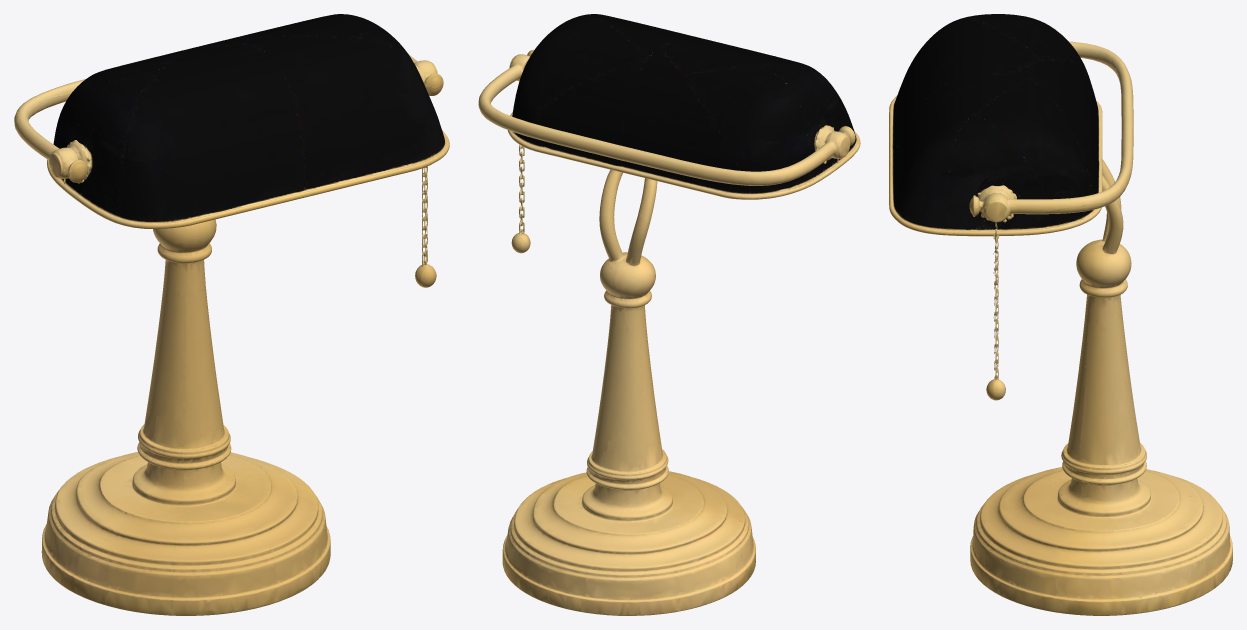
File: desk-lamp.glb
3 renders of one model, left to right at view 1: azimuth 30°, elevation 25°; view 2: azimuth 150°, elevation 25°; view 3: azimuth 270°, elevation 25°, orthographic. The views are drawn at different scales.
Parts seen in each view (by area): view 1: mesh_node; view 2: mesh_node; view 3: mesh_node.
Part boxes in pixels (bbox=[...]): mesh_node: bbox=[14, 14, 449, 615]; mesh_node: bbox=[478, 14, 860, 615]; mesh_node: bbox=[889, 14, 1232, 615].
Size of the model in its own units: 1.38 by 1.9 by 1.2.
1 material, 1 textured.
